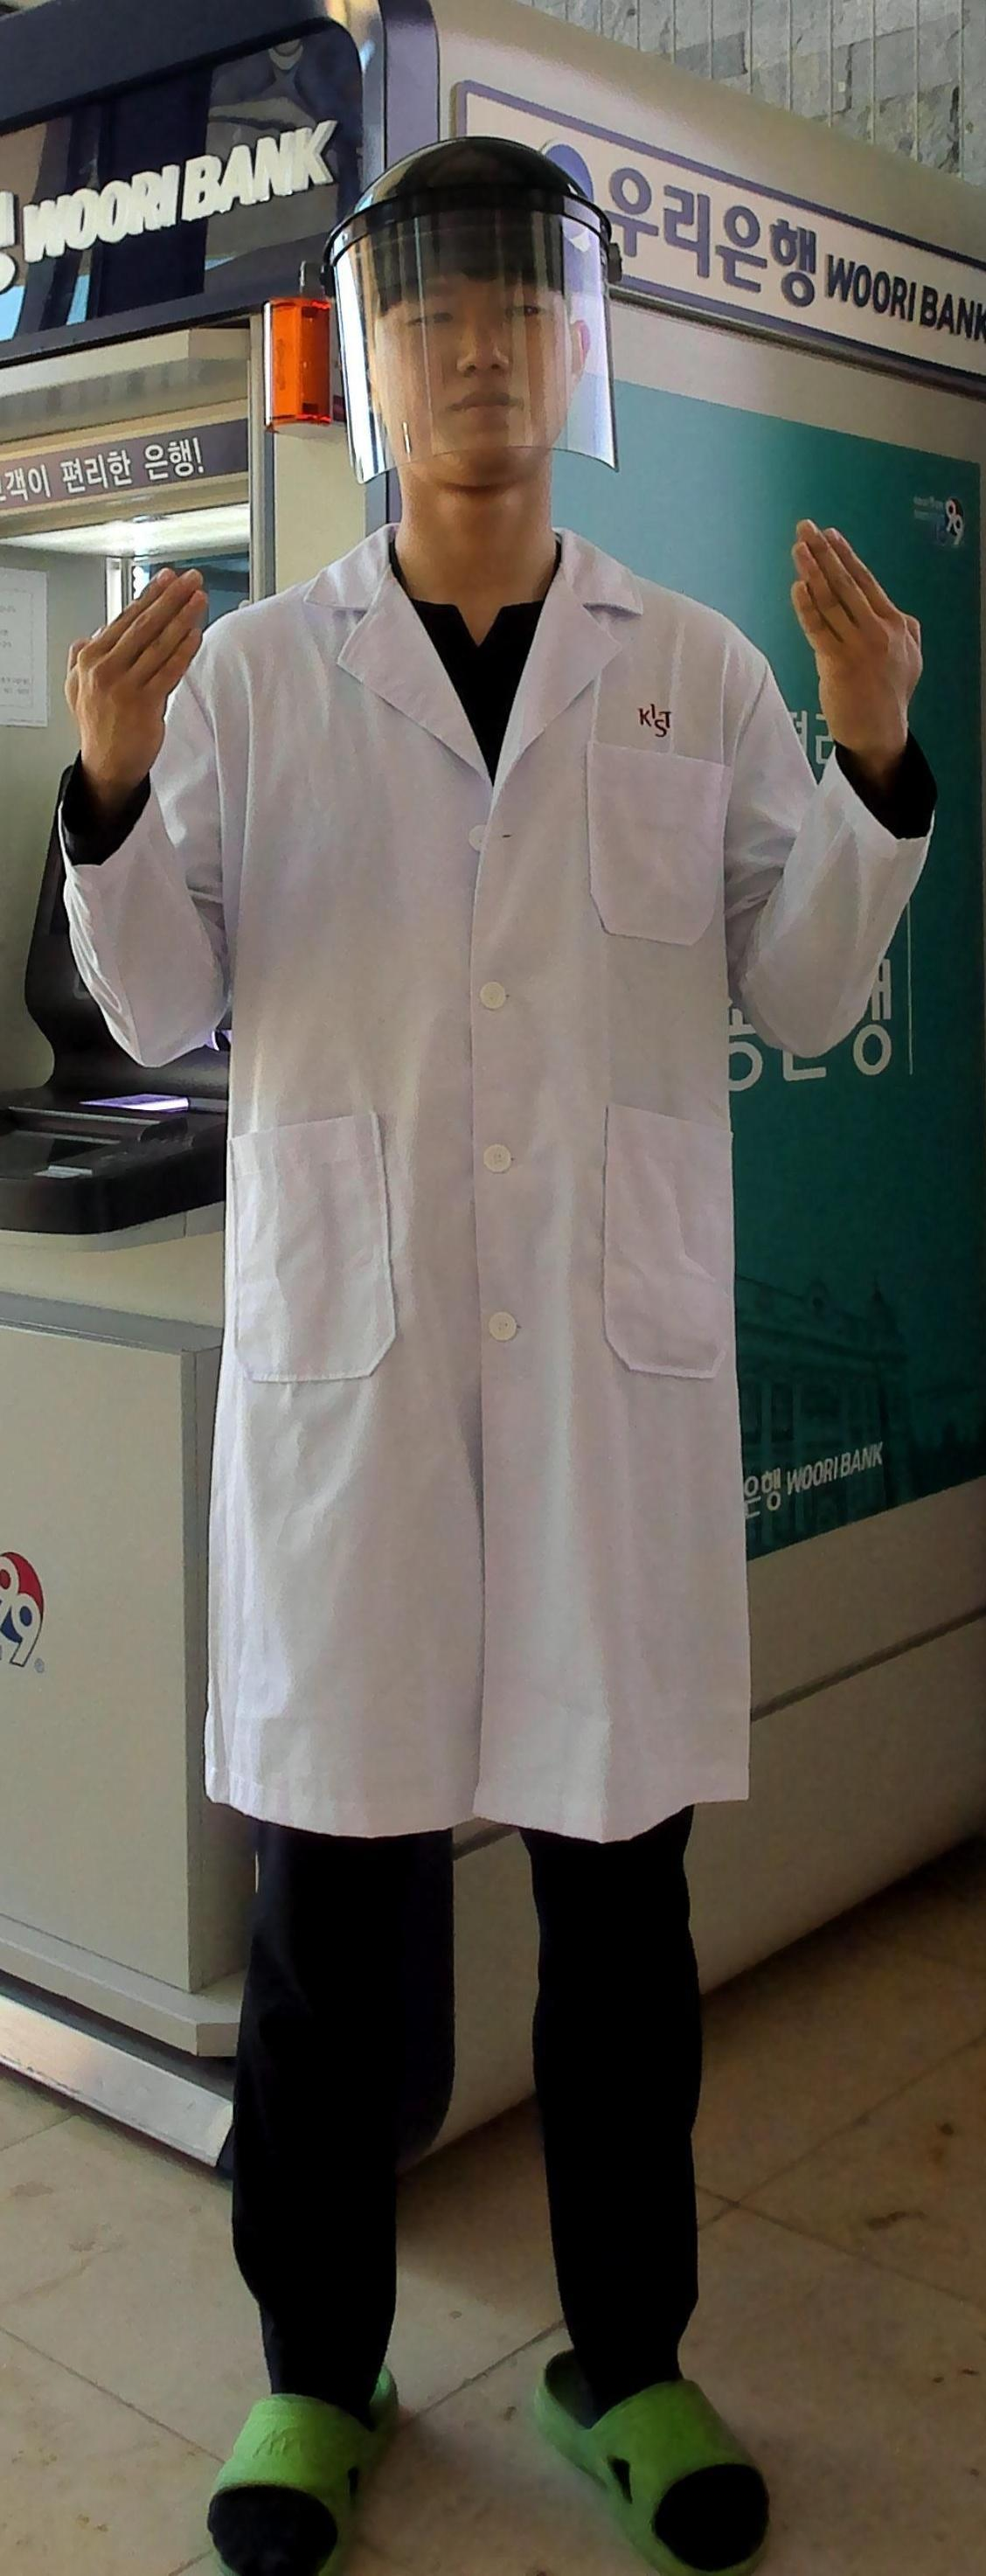lab_coat: (181, 621, 774, 1817)
